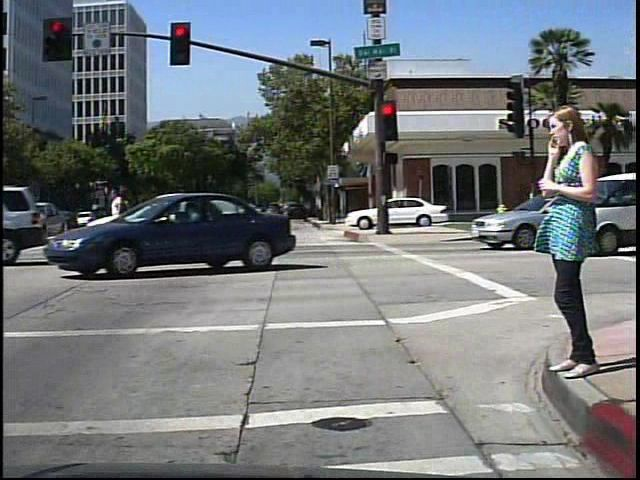person: (536, 96, 602, 389)
